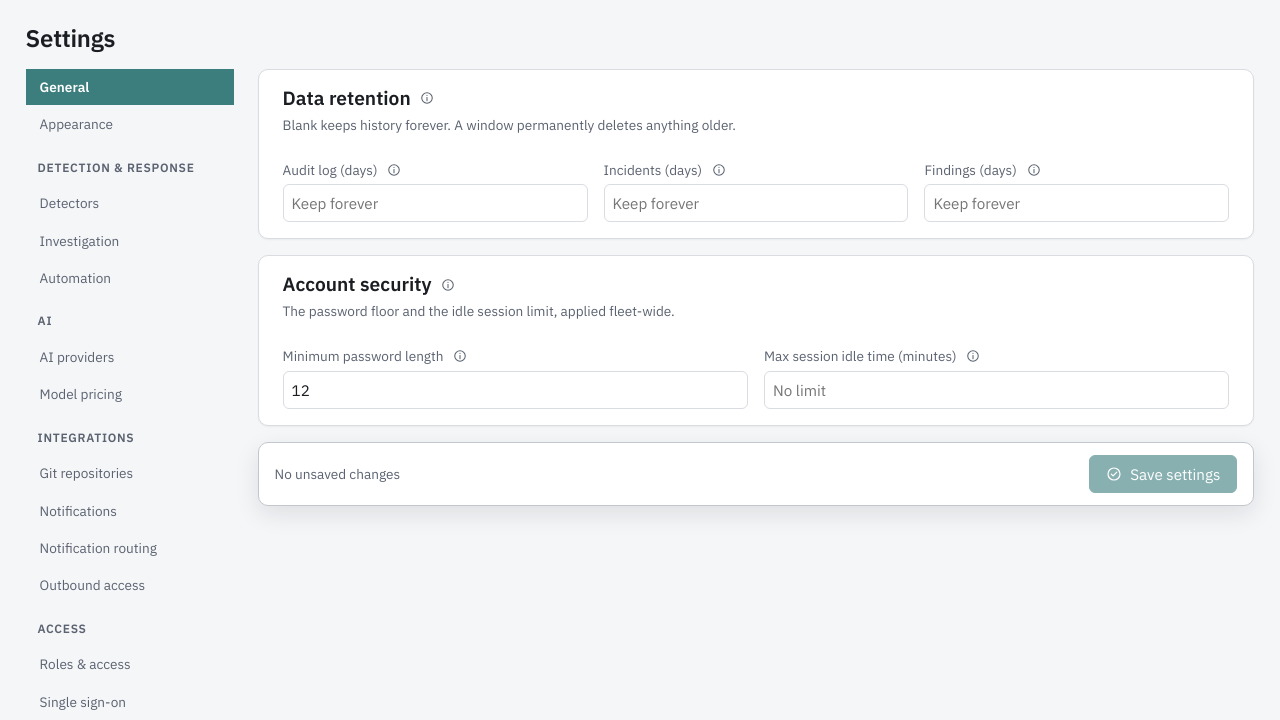
SettingsPage — legacy ?section= aliases and nav › clicking a nav tab switches the visible section
Expected: the heading "Data retention" is shown, left=283, top=86, right=436, bottom=111
Click the tab "Notifications" at coordinates (130, 511), box left=26, top=493, right=234, bottom=529
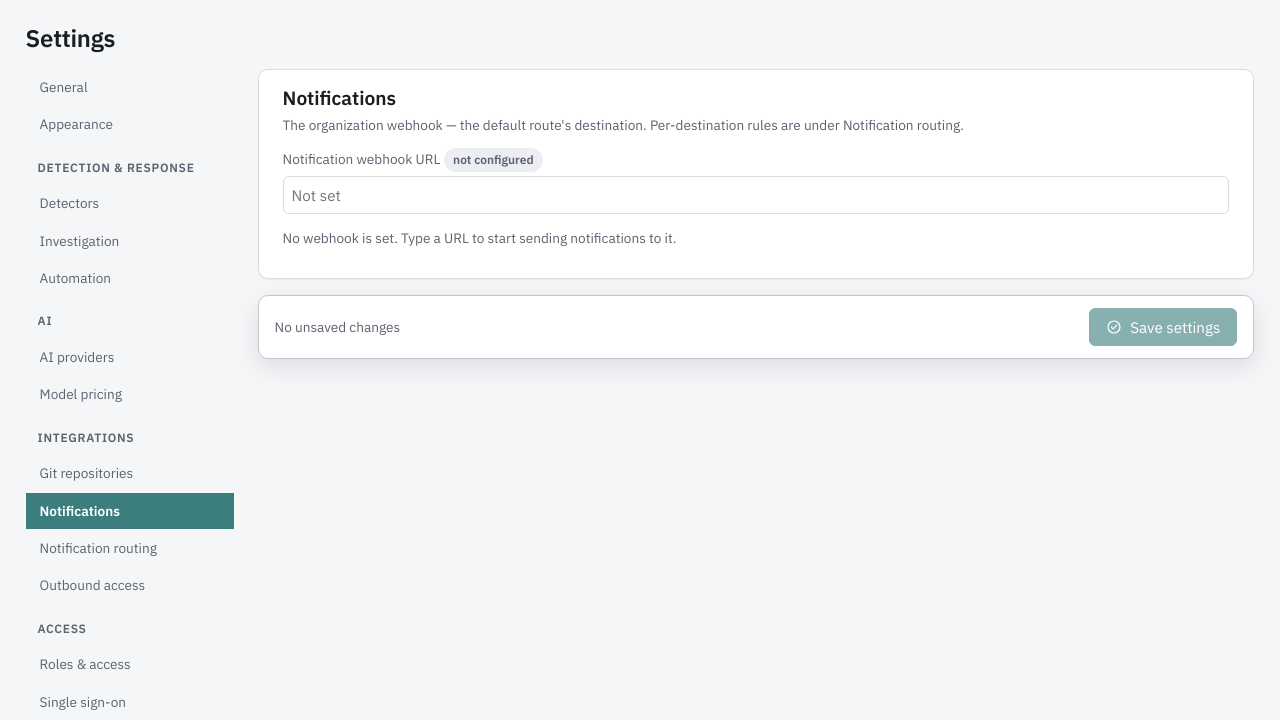
Result: the text "Notification webhook URL" is shown at left=283, top=150, right=440, bottom=168
Result: the heading "Data retention" is gone
